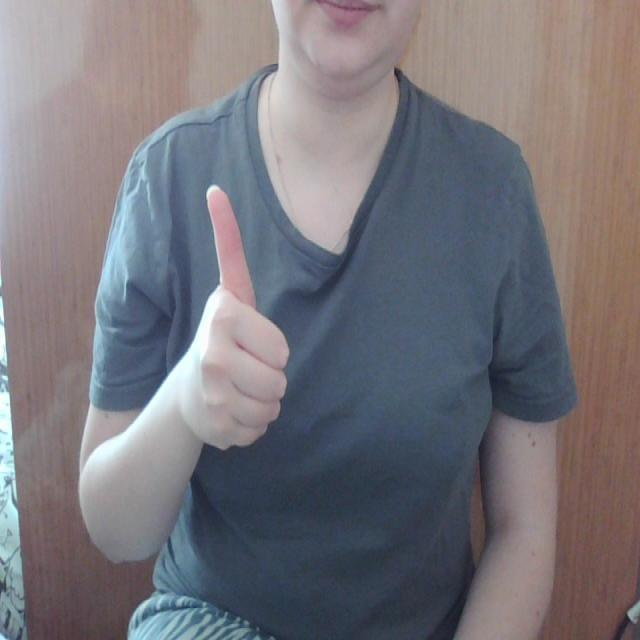Tamam: (187, 180, 292, 455)
